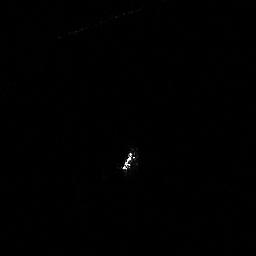ship: (116, 146, 139, 172)
